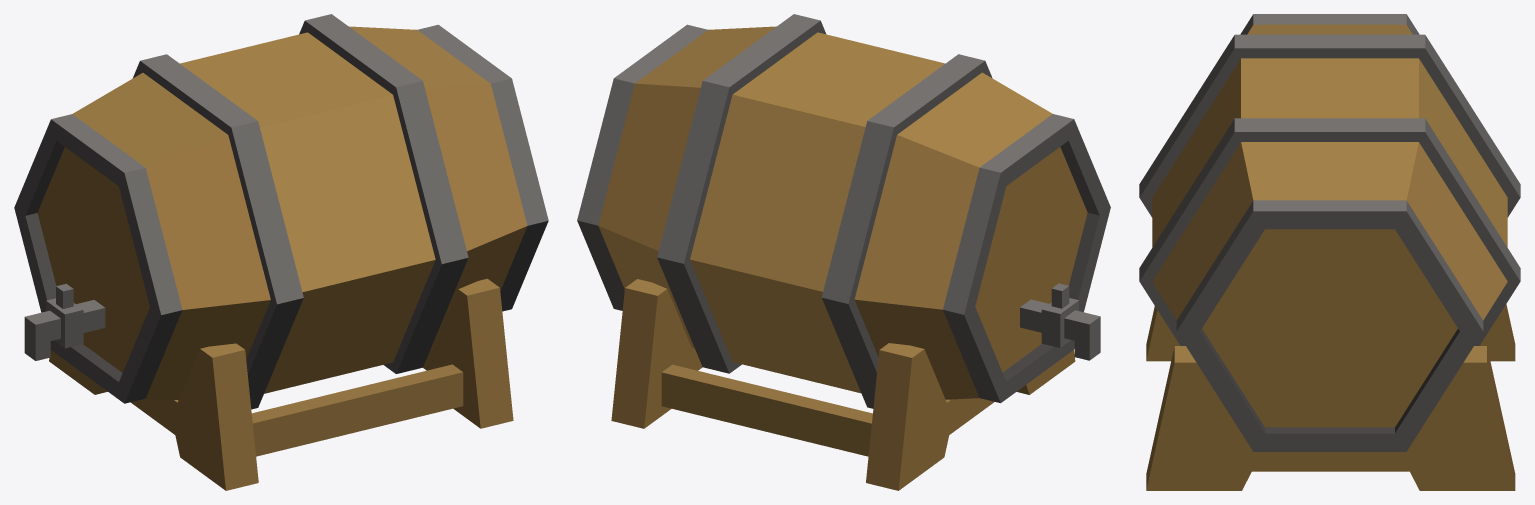
File: Model_Horde_2x1A.fbx
The picture shows the model from 3 angles, left to right: view 1: azimuth 30°, elevation 25°; view 2: azimuth 150°, elevation 25°; view 3: azimuth 270°, elevation 25°; orthographic projection. The views are drawn at different scales.
Visible parts, largest first — view 1: Model_Frost_2x1A; view 2: Model_Frost_2x1A; view 3: Model_Frost_2x1A.
Boxes of the visible parts, x1=… form: Model_Frost_2x1A: x1=14, y1=14, x2=548, y2=490; Model_Frost_2x1A: x1=577, y1=14, x2=1110, y2=490; Model_Frost_2x1A: x1=1139, y1=14, x2=1520, y2=490.
Bounding box in the file's own units: 288 × 198 × 205.
Materials: 1 (1 with a texture image).
